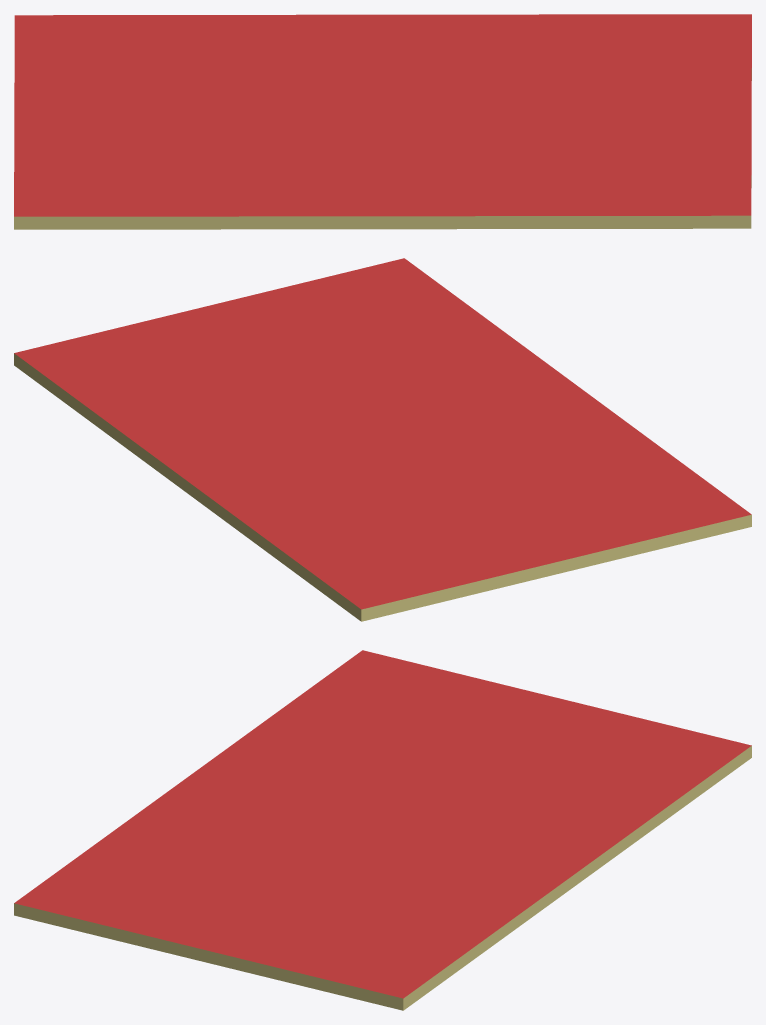
3 renders of one model, top to bottom at view 1: azimuth 30°, elevation 25°; view 2: azimuth 150°, elevation 25°; view 3: azimuth 270°, elevation 25°, orthographic. The views are drawn at different scales.
Size of the model in its own units: 6.13 by 5.46 by 0.111.
